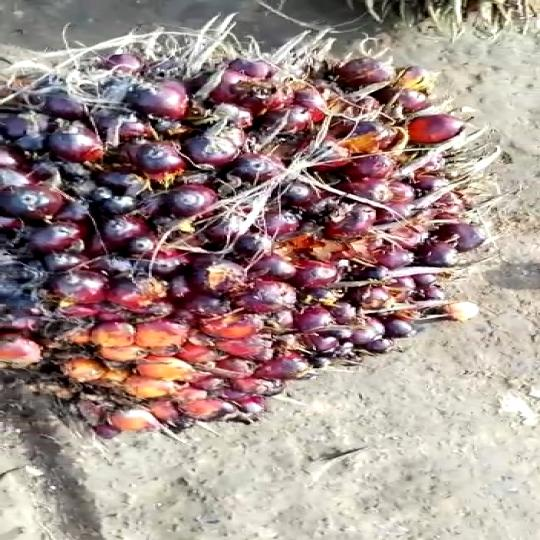masak: (0, 26, 497, 451)
